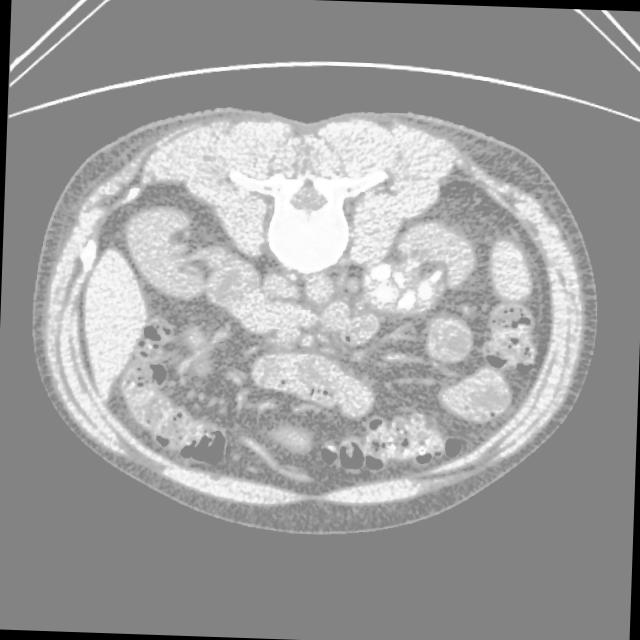STONE: (73, 242, 555, 548)
